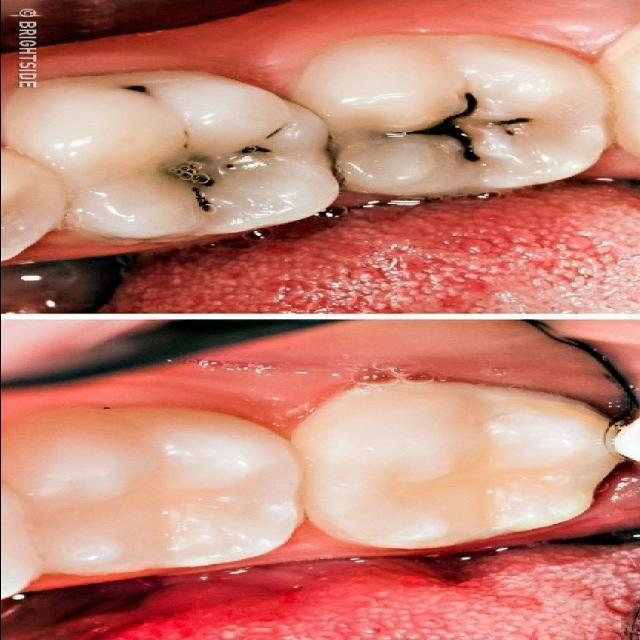caries: (141, 112, 273, 214), (372, 89, 533, 168)
